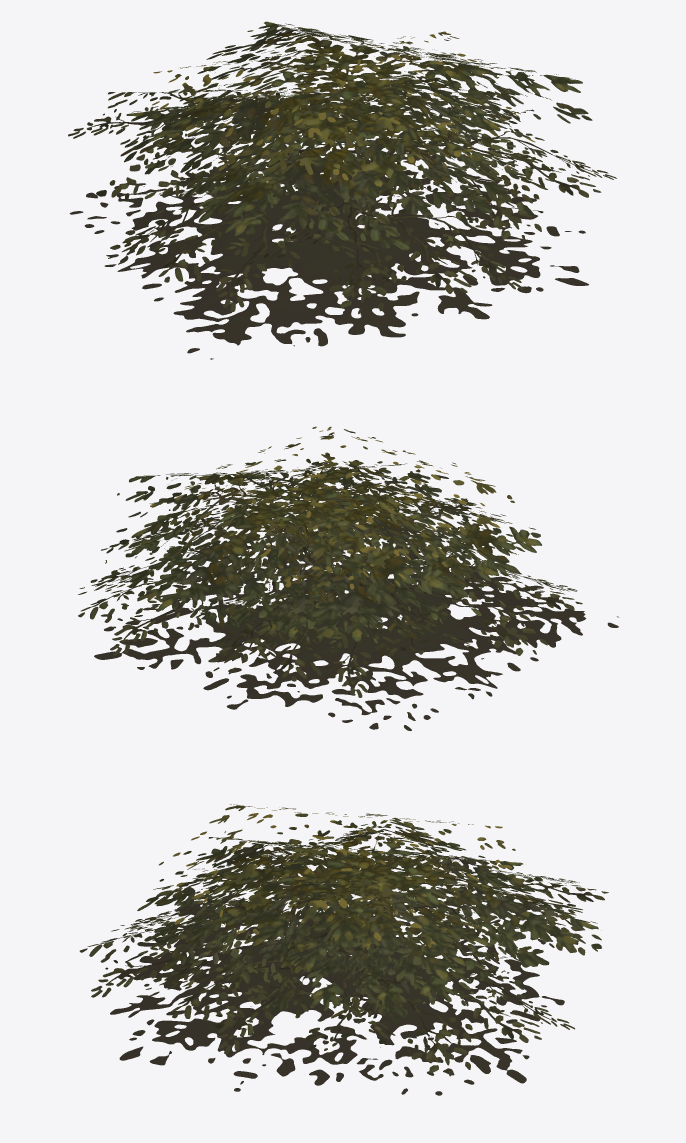
The model's file is plants_bushes04.fbx.
The picture shows the model from 3 angles, top to bottom: view 1: azimuth 30°, elevation 25°; view 2: azimuth 150°, elevation 25°; view 3: azimuth 270°, elevation 25°; orthographic projection. The views are drawn at different scales.
Parts seen in each view (by area): view 1: Material_#6642/bush_1; view 2: Material_#6642/bush_1; view 3: Material_#6642/bush_1.
Boxes of the visible parts, bbox=[...] form: Material_#6642/bush_1: bbox=[68, 21, 616, 359]; Material_#6642/bush_1: bbox=[78, 426, 618, 730]; Material_#6642/bush_1: bbox=[79, 804, 608, 1095].
Bounding box in the file's own units: 5.28 × 1.49 × 5.46.
